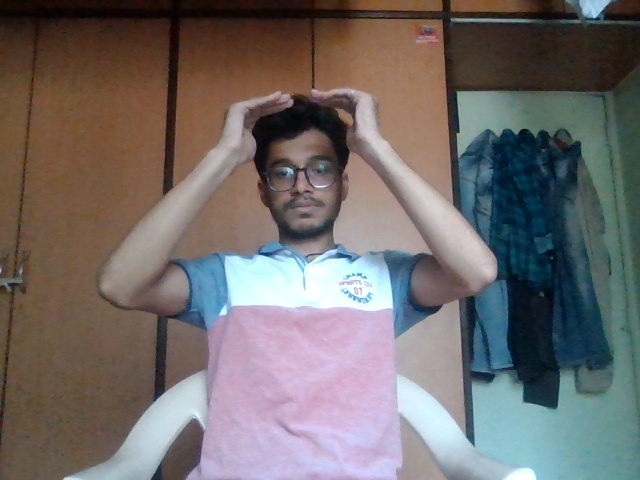afternoon: (187, 75, 458, 216)
